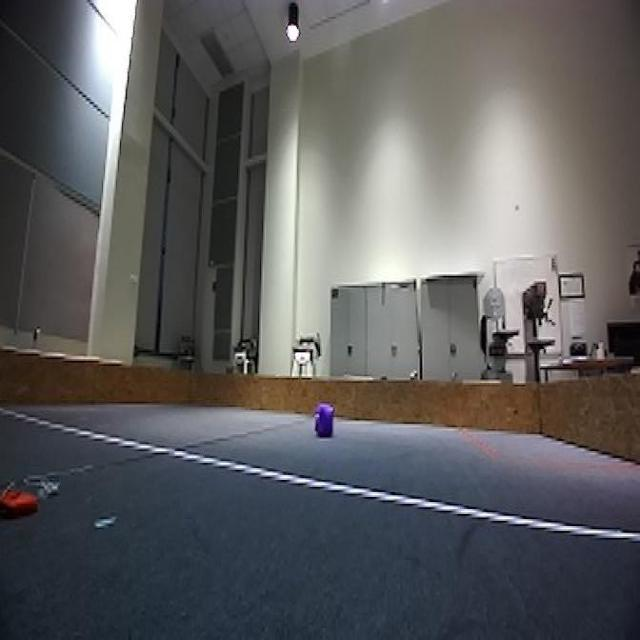frc_cube: (314, 400, 336, 439)
